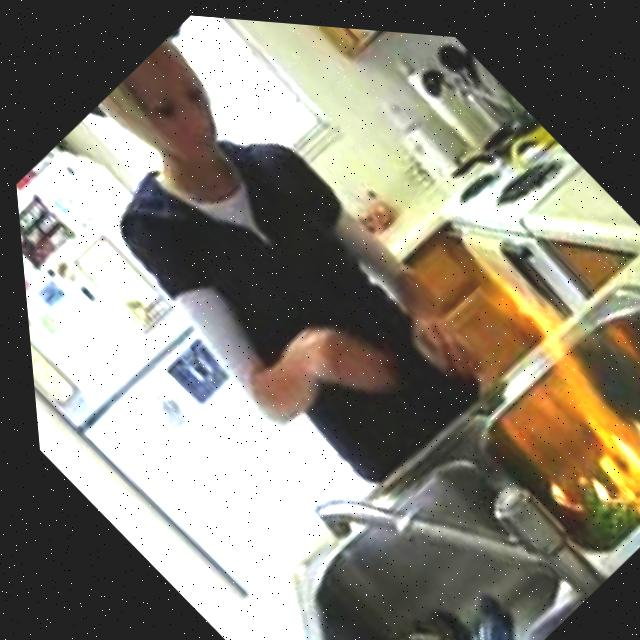Fire: (395, 241, 640, 561)
